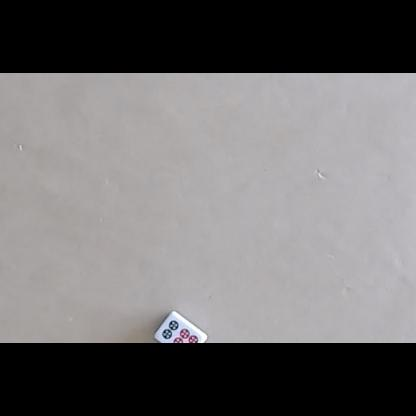6p: (162, 319, 198, 343)
